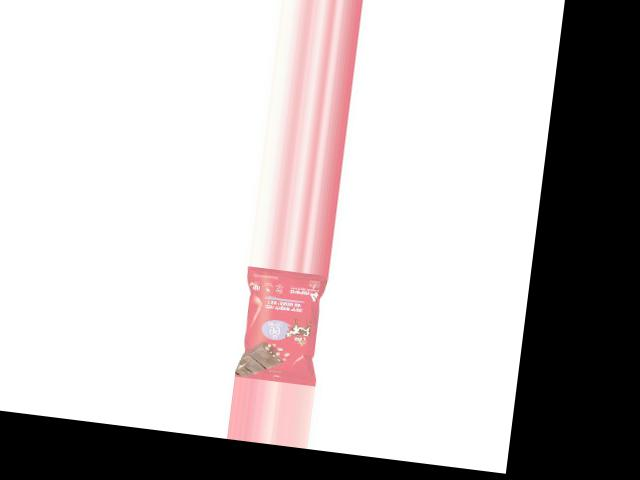chocolate: (233, 265, 326, 385)
